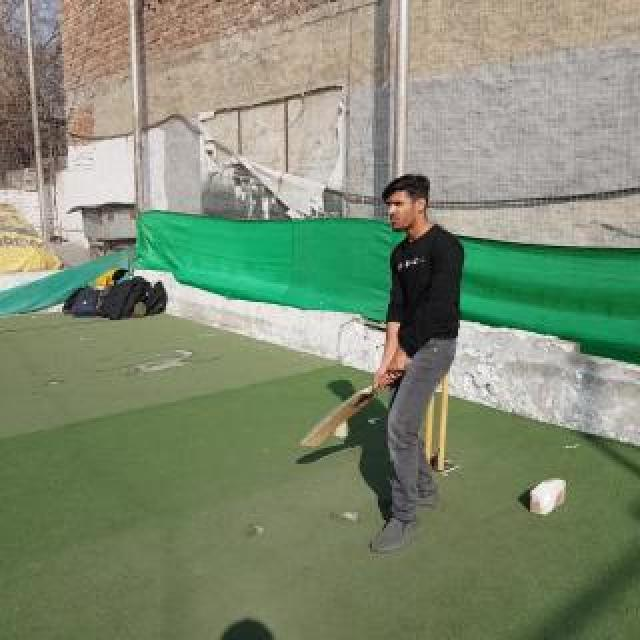bat: (300, 357, 412, 447)
